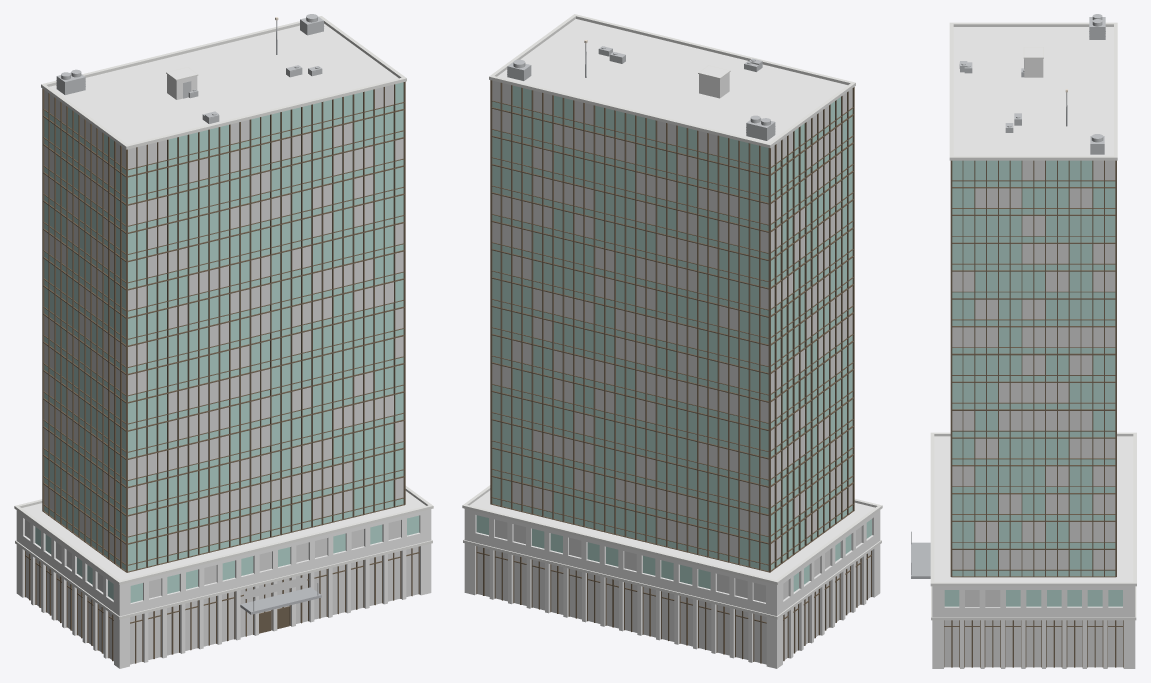
File: tower_slab250.glb
The picture shows the model from 3 angles, left to right: view 1: azimuth 30°, elevation 25°; view 2: azimuth 150°, elevation 25°; view 3: azimuth 270°, elevation 25°; orthographic projection.
Parts seen in each view (by area): view 1: tower_slab250_Glass, tower_slab250_Frames, tower_slab250_WindowsLit, tower_slab250_Roof, tower_slab250_Walls2, tower_slab250_Trim, tower_slab250_Details, tower_slab250_Accent; view 2: tower_slab250_Glass, tower_slab250_Frames, tower_slab250_WindowsLit, tower_slab250_Roof, tower_slab250_Walls2, tower_slab250_Trim, tower_slab250_Details; view 3: tower_slab250_Glass, tower_slab250_WindowsLit, tower_slab250_Roof, tower_slab250_Frames, tower_slab250_Walls2, tower_slab250_Trim, tower_slab250_Details, tower_slab250_Accent.
Part boxes in pixels (x1,y1,x2,y2): tower_slab250_Glass: [35, 82, 419, 602]; tower_slab250_Frames: [25, 81, 419, 663]; tower_slab250_WindowsLit: [25, 84, 418, 664]; tower_slab250_Roof: [22, 23, 425, 580]; tower_slab250_Walls2: [16, 74, 431, 668]; tower_slab250_Trim: [14, 16, 433, 619]; tower_slab250_Details: [56, 14, 324, 611]; tower_slab250_Accent: [240, 587, 321, 614]; tower_slab250_Glass: [476, 85, 871, 591]; tower_slab250_Frames: [476, 80, 871, 663]; tower_slab250_WindowsLit: [477, 80, 870, 664]; tower_slab250_Roof: [470, 19, 874, 579]; tower_slab250_Walls2: [464, 72, 880, 668]; tower_slab250_Trim: [462, 14, 882, 619]; tower_slab250_Details: [507, 43, 775, 140]; tower_slab250_Glass: [944, 160, 1122, 606]; tower_slab250_WindowsLit: [944, 160, 1122, 667]; tower_slab250_Roof: [934, 27, 1133, 582]; tower_slab250_Frames: [944, 160, 1123, 667]; tower_slab250_Walls2: [932, 58, 1135, 668]; tower_slab250_Trim: [930, 22, 1136, 620]; tower_slab250_Details: [911, 14, 1105, 574]; tower_slab250_Accent: [911, 542, 930, 578].
Bounding box in the file's own units: 151 × 251 × 95.7.
